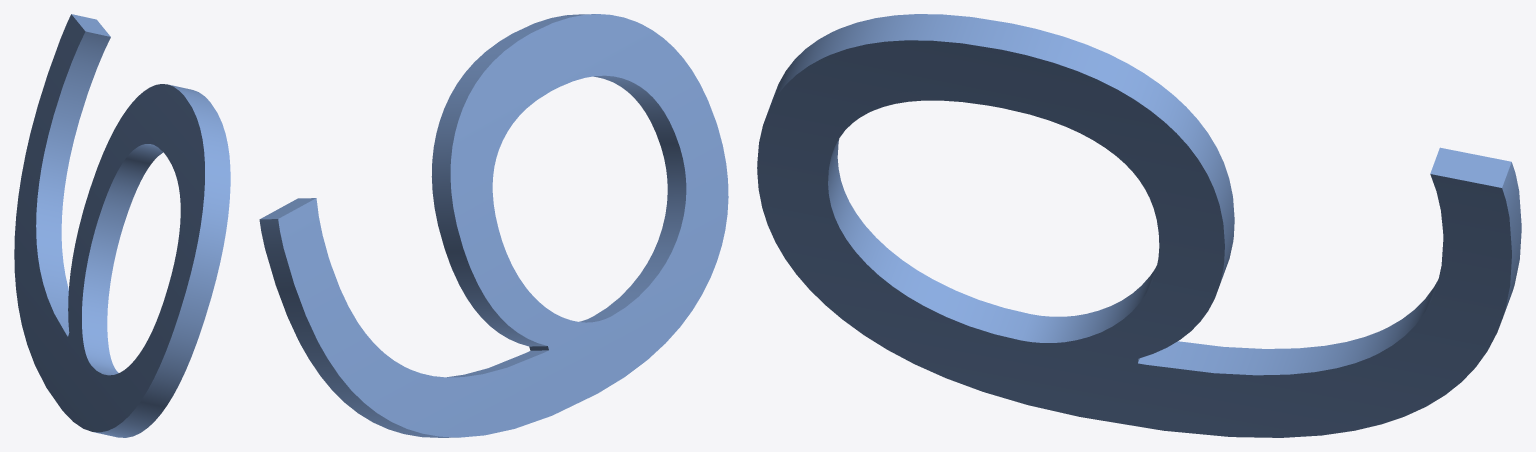
The model's file is Number_6.gltf.
3 views of the same model, side by side, from view 1: azimuth 30°, elevation 25°; view 2: azimuth 150°, elevation 25°; view 3: azimuth 270°, elevation 25° (orthographic). The views are drawn at different scales.
Visible parts, largest first — view 1: Sub_9_Cell_2_1_Number_6; view 2: Sub_9_Cell_2_1_Number_6; view 3: Sub_9_Cell_2_1_Number_6.
Part boxes in pixels (x1,y1,x2,y2): Sub_9_Cell_2_1_Number_6: (14, 14, 230, 437); Sub_9_Cell_2_1_Number_6: (259, 14, 728, 437); Sub_9_Cell_2_1_Number_6: (757, 14, 1521, 437).
Size of the model in its own units: 0.011 by 0.0163 by 0.0253.
